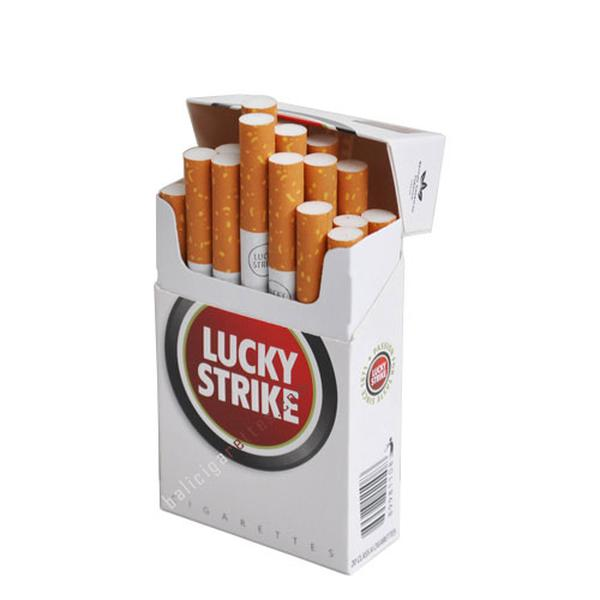lucky_strike_red: (157, 244, 350, 512)
